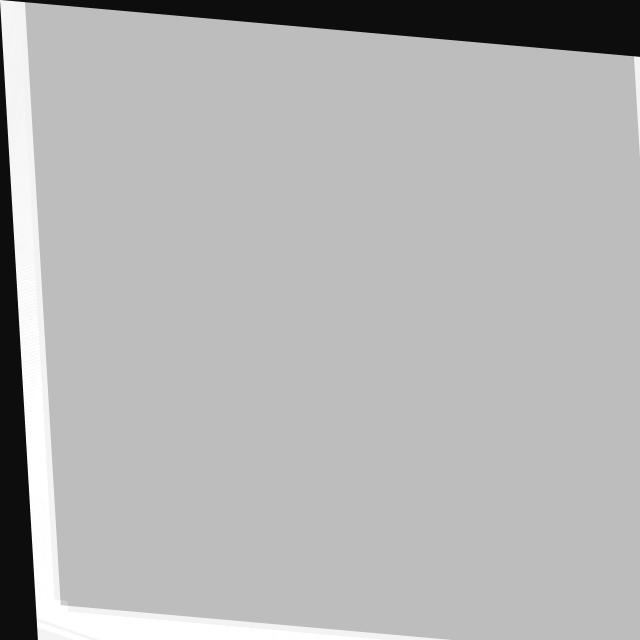qr_code: (25, 2, 640, 640)
